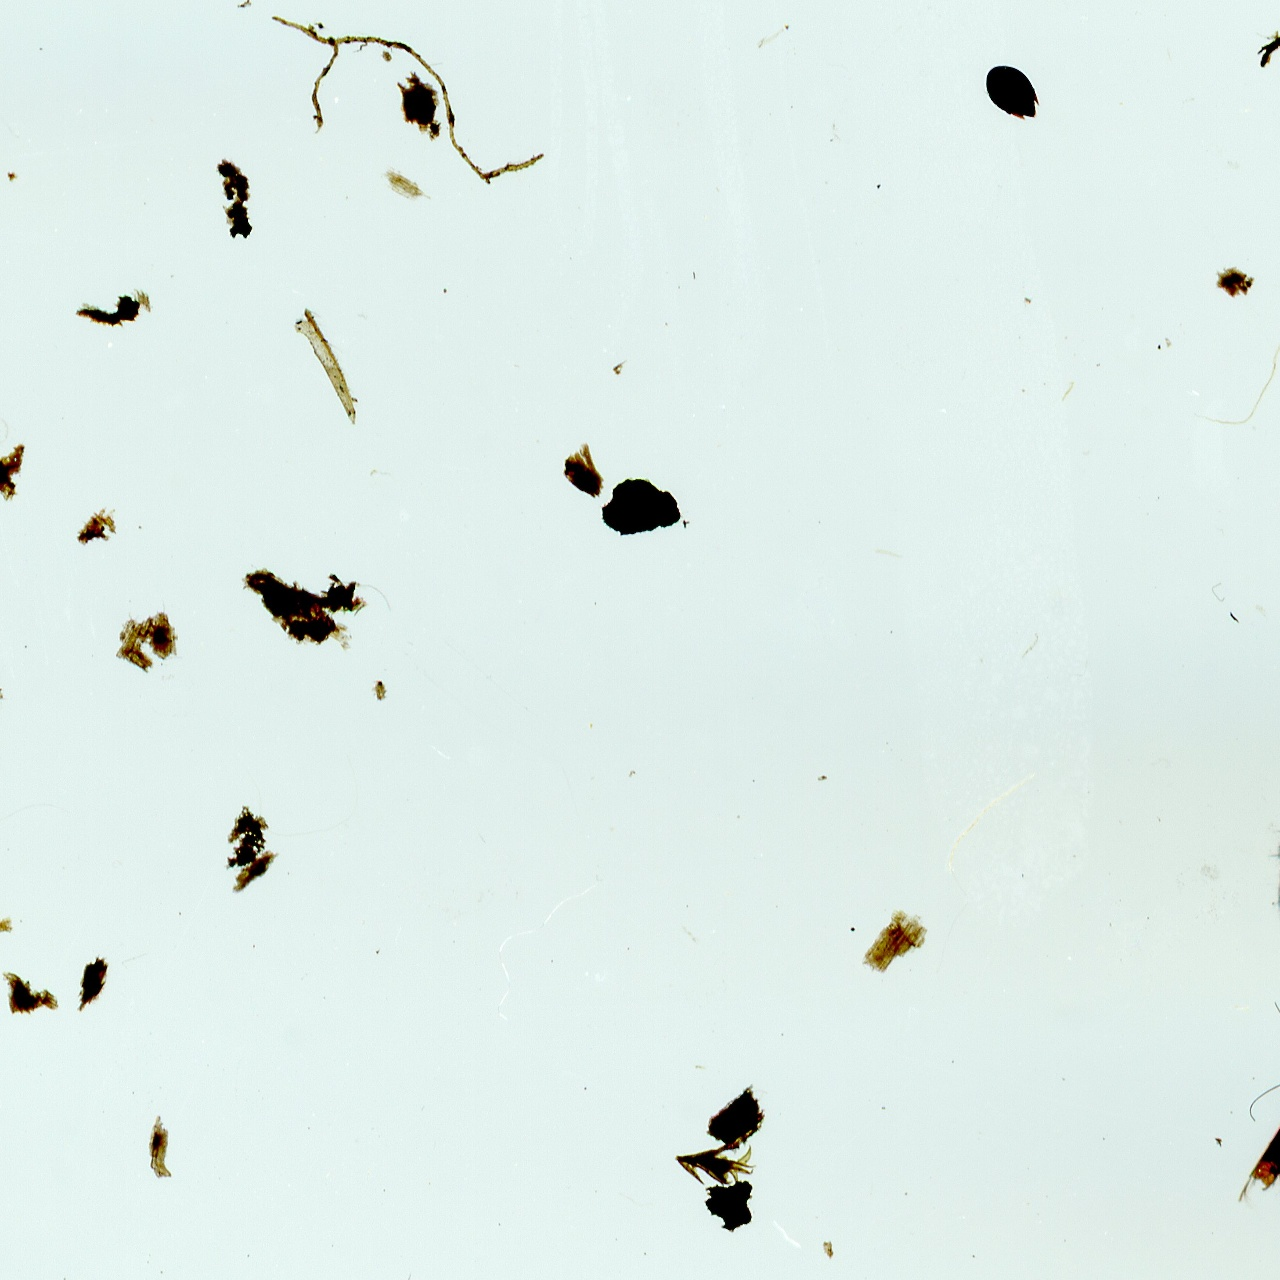arthropod: (982, 62, 1041, 122)
